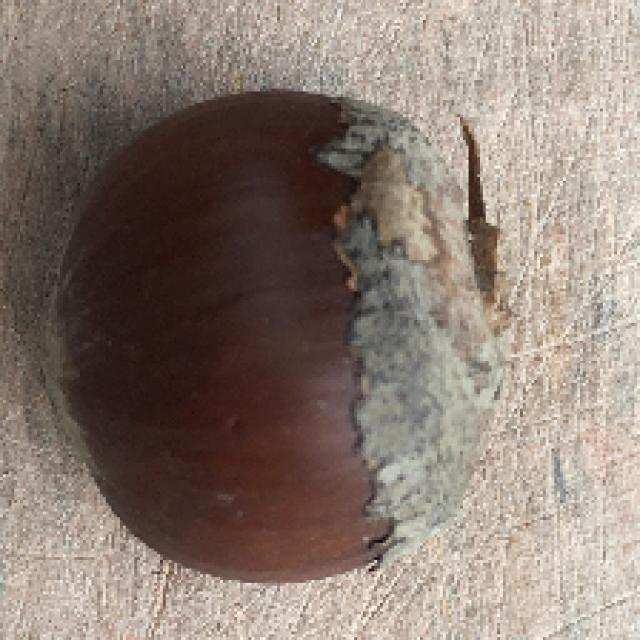damagedHazelnut: (35, 88, 522, 591)
